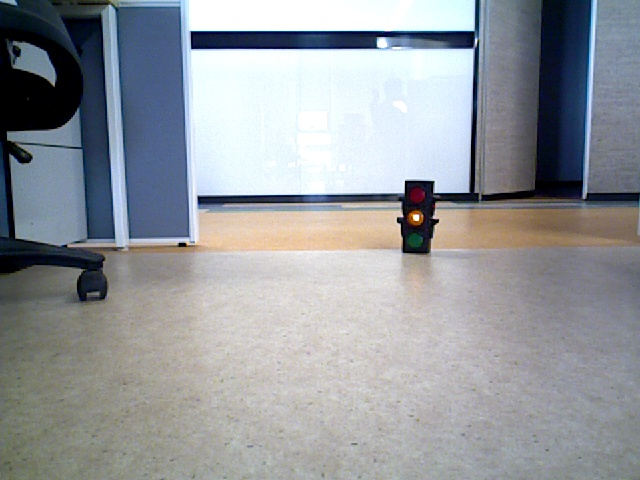yellow: (403, 182, 429, 247)
